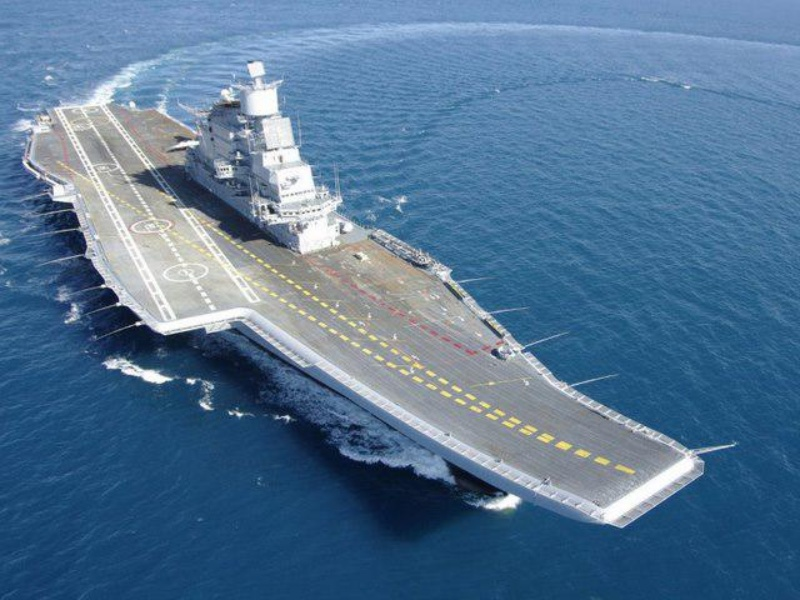carrier: (53, 81, 736, 523)
